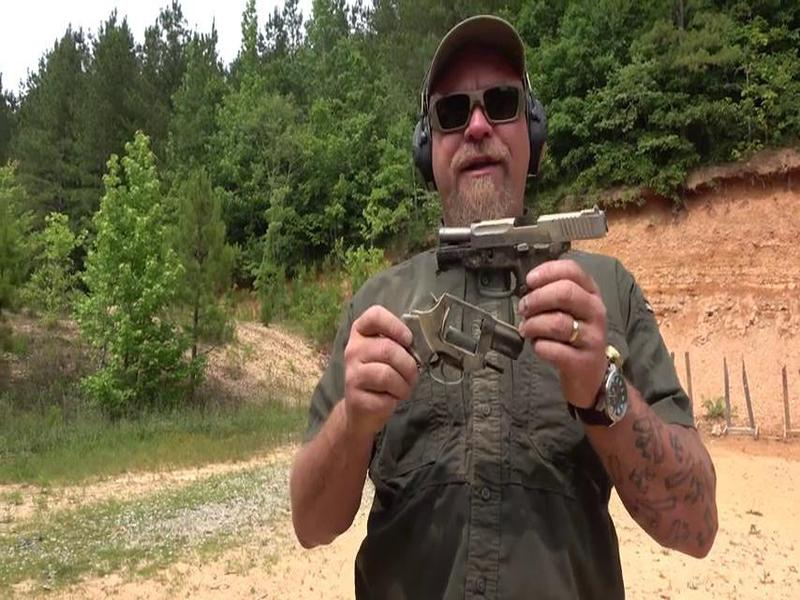Pistola: (433, 207, 611, 324)
Revolver: (366, 286, 530, 407)
